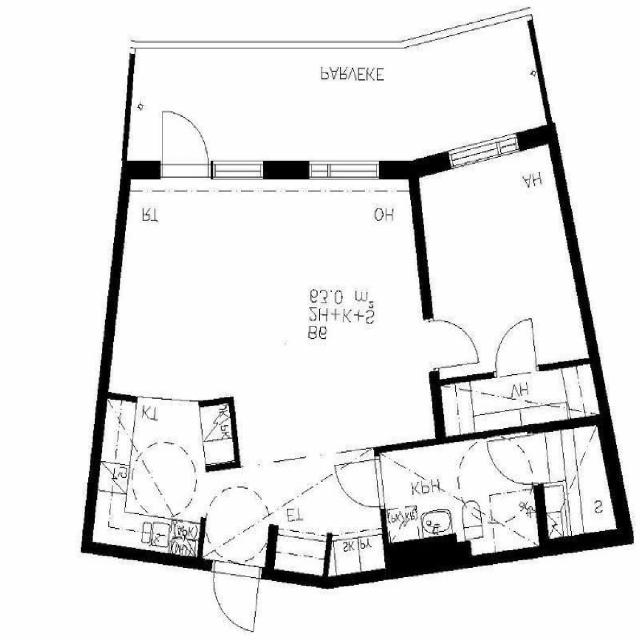door: (209, 560, 260, 631), (163, 107, 210, 179), (487, 434, 543, 489), (424, 315, 479, 370), (334, 458, 386, 512), (492, 319, 537, 377)
